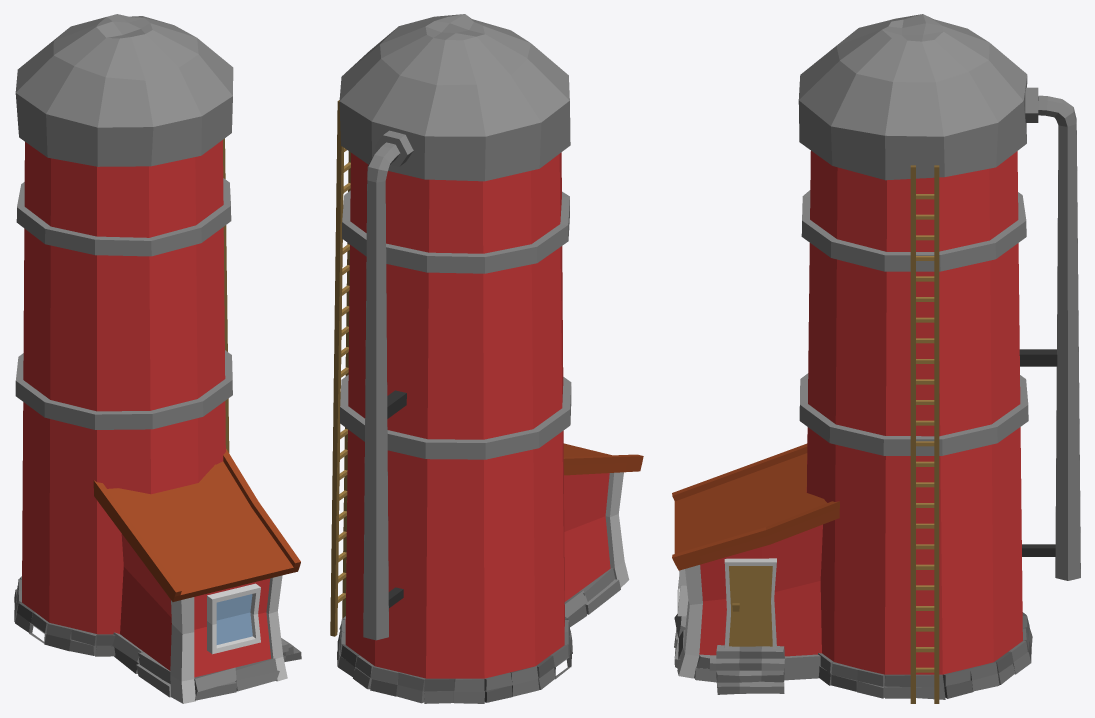
Rendered from silo.fbx.
The picture shows the model from 3 angles, left to right: view 1: azimuth 30°, elevation 25°; view 2: azimuth 150°, elevation 25°; view 3: azimuth 270°, elevation 25°; orthographic projection. The views are drawn at different scales.
Parts seen in each view (by area): view 1: silo_LOD0; view 2: silo_LOD0; view 3: silo_LOD0.
Boxes of the visible parts, <box> form: silo_LOD0: <box>14,14,301,703</box>; silo_LOD0: <box>330,14,643,703</box>; silo_LOD0: <box>672,14,1080,703</box>.
Size of what is drawn, in the model's own units: 5.41 by 15.3 by 9.02.
